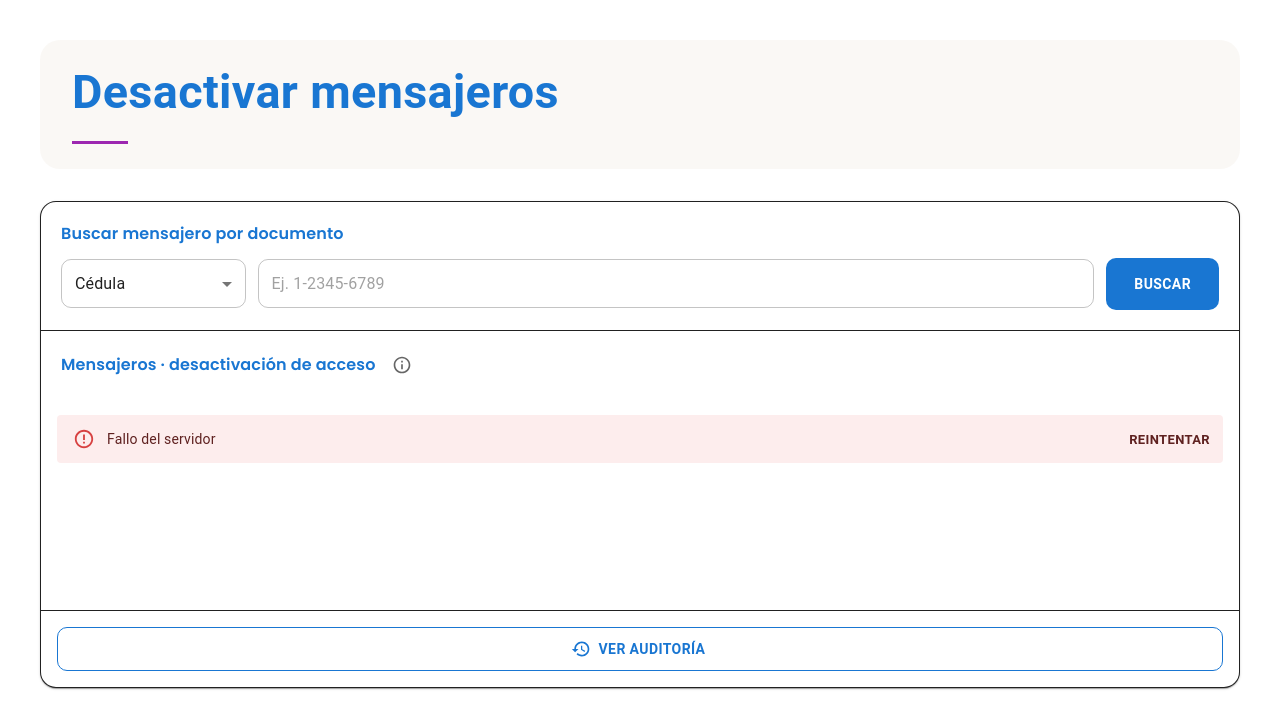
Scenario: MessengerFleetList (HU-005 desactivar mensajero) › ofrece "Reintentar" cuando falla la carga y muestra la flota si la segunda vez responde
Expected: the text "Fallo del servidor" is shown, [107, 431, 216, 447]
Click the button "Reintentar" at [1170, 440], box [1124, 425, 1215, 456]
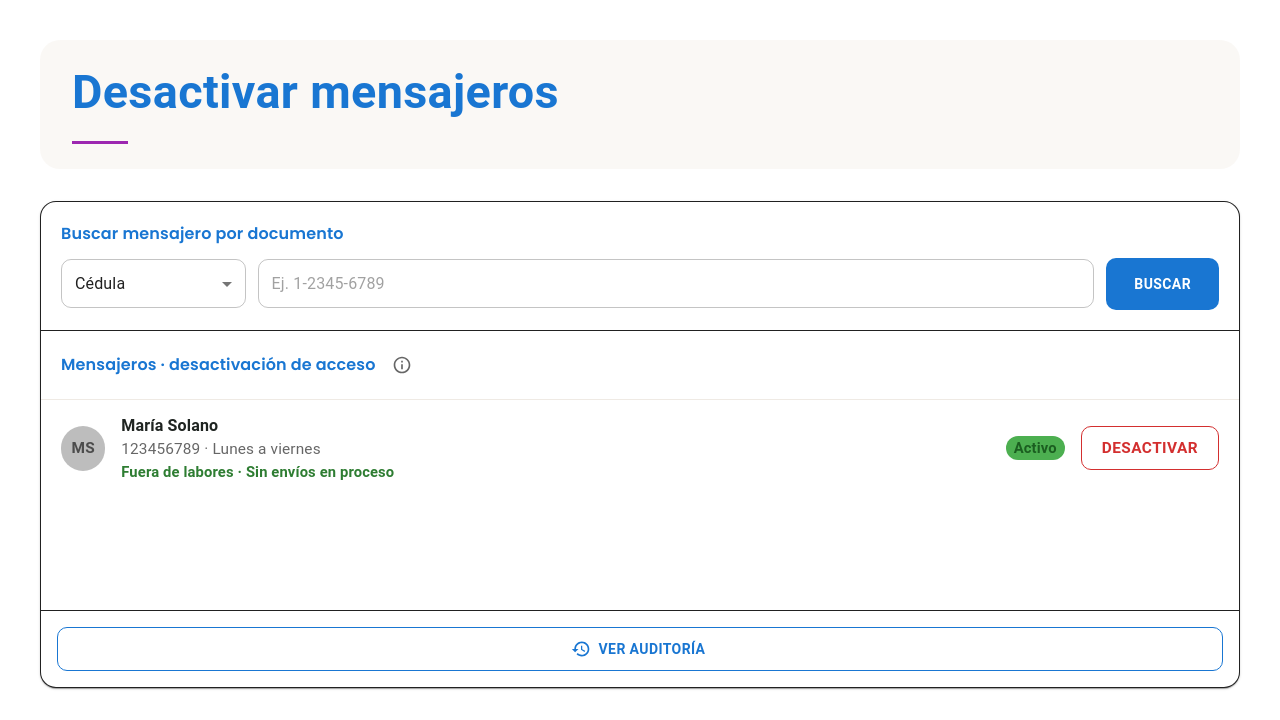
Now the button "Desactivar" is shown, box [1081, 426, 1219, 470]
Now the text "Fallo del servidor" is gone
